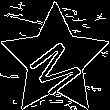M_NE: (23, 27, 87, 94)
